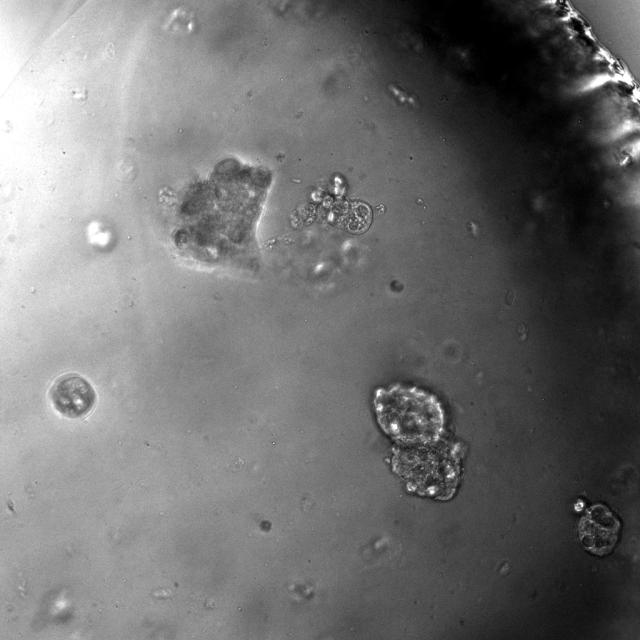organoid: (159, 157, 271, 267), (373, 382, 462, 500), (290, 173, 373, 234), (572, 497, 621, 557), (47, 371, 96, 420)
